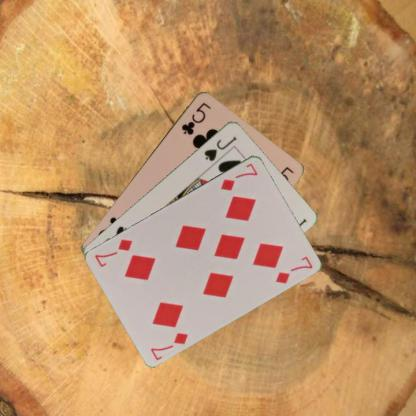5c: (179, 99, 212, 136)
7d: (218, 160, 259, 192), (148, 329, 189, 361)
Js: (201, 134, 238, 162)
